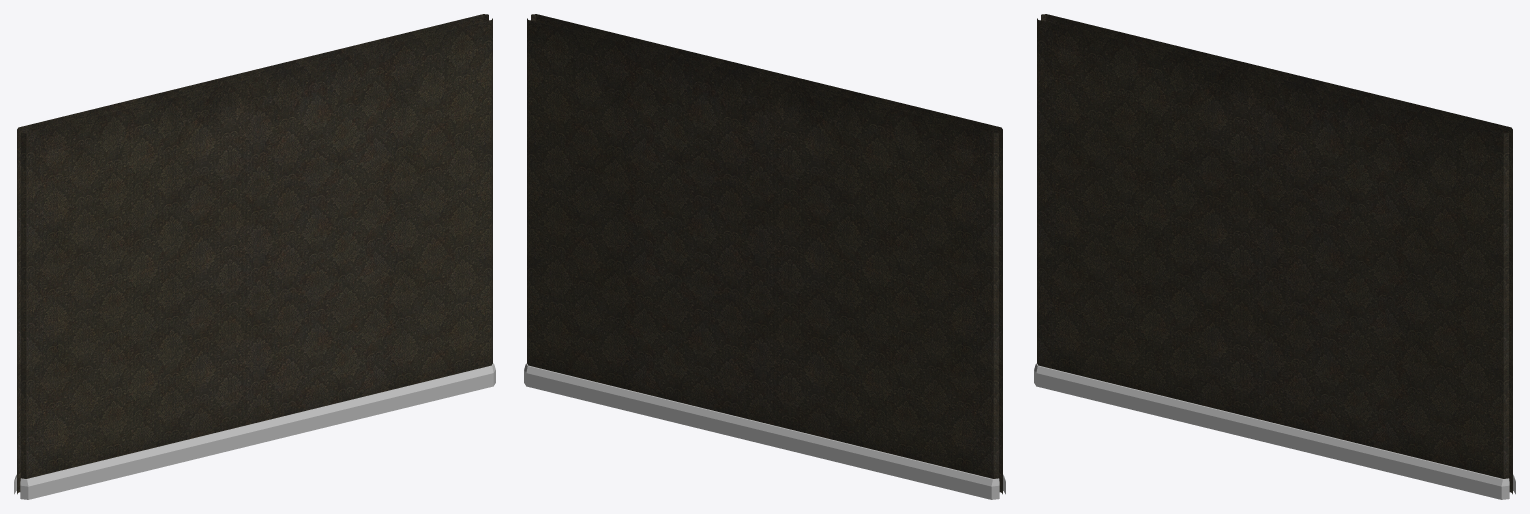
File: wall_2_2.fbx
3 renders of one model, left to right at view 1: azimuth 30°, elevation 25°; view 2: azimuth 150°, elevation 25°; view 3: azimuth 330°, elevation 25°, orthographic.
Parts seen in each view (by area): view 1: wall_2_2; view 2: wall_2_2; view 3: wall_2_2.
Boxes of the visible parts, x1,y1,x2,y2 form: wall_2_2: [14, 14, 495, 499]; wall_2_2: [524, 14, 1005, 499]; wall_2_2: [1034, 14, 1515, 499].
Bounding box in the file's own units: 4.09 × 0.18 × 3.
